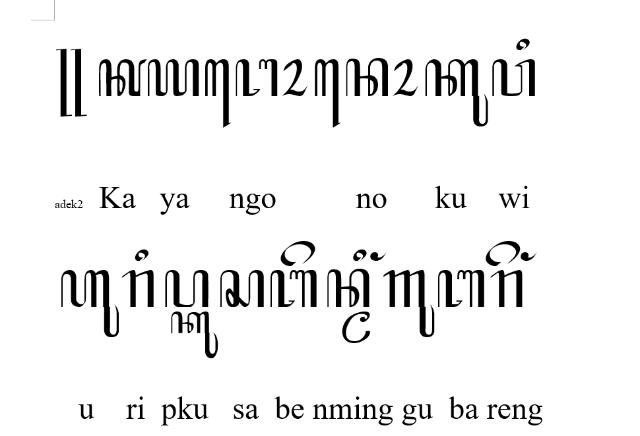K: (98, 58, 148, 98)
_m: (342, 312, 370, 344)
adeg2: (55, 48, 87, 117)
b: (269, 267, 319, 309), (437, 269, 485, 309)
e: (484, 240, 520, 267), (280, 240, 314, 266)
e1: (203, 58, 230, 130), (314, 58, 341, 130)
gu: (383, 270, 435, 339)
hu: (61, 270, 119, 339)
i: (134, 248, 150, 262), (516, 37, 530, 51), (352, 248, 366, 262)
ku: (424, 58, 490, 128), (170, 312, 218, 360)
n: (326, 268, 370, 310), (346, 57, 388, 96)
ng: (369, 251, 387, 262), (520, 252, 536, 262)
nga: (236, 57, 278, 96)
o: (392, 58, 420, 98), (282, 58, 308, 98)
p: (164, 269, 210, 309)
r: (121, 270, 155, 310), (490, 270, 524, 308)
s: (219, 268, 265, 310)
w: (492, 58, 536, 98)
y: (146, 58, 200, 98)
